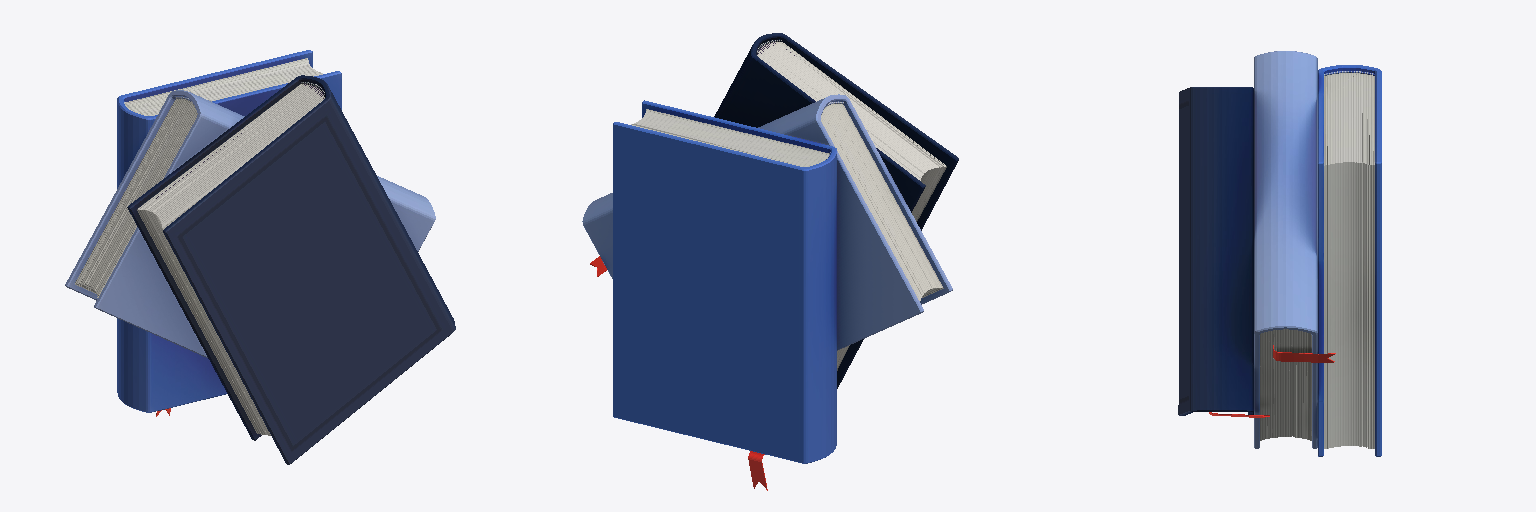
The picture shows the model from 3 angles: view 1: azimuth 30°, elevation 25°; view 2: azimuth 150°, elevation 25°; view 3: azimuth 270°, elevation 25°; orthographic projection.
Parts seen in each view (by area): view 1: Object.1; view 2: Object.1; view 3: Object.1.
Part boxes in pixels (bbox=[...]): Object.1: bbox=[65, 50, 455, 464]; Object.1: bbox=[582, 33, 958, 490]; Object.1: bbox=[1178, 51, 1381, 456].
Bounding box in the file's own units: 15 × 15.58 × 7.64.
Materials: 1 (1 with a texture image).